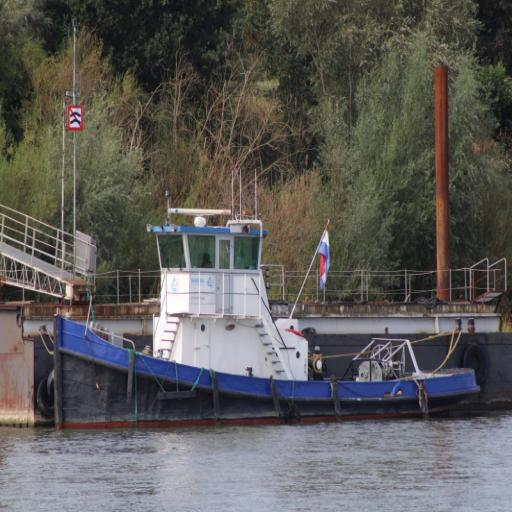tugboat: (50, 166, 484, 444)
